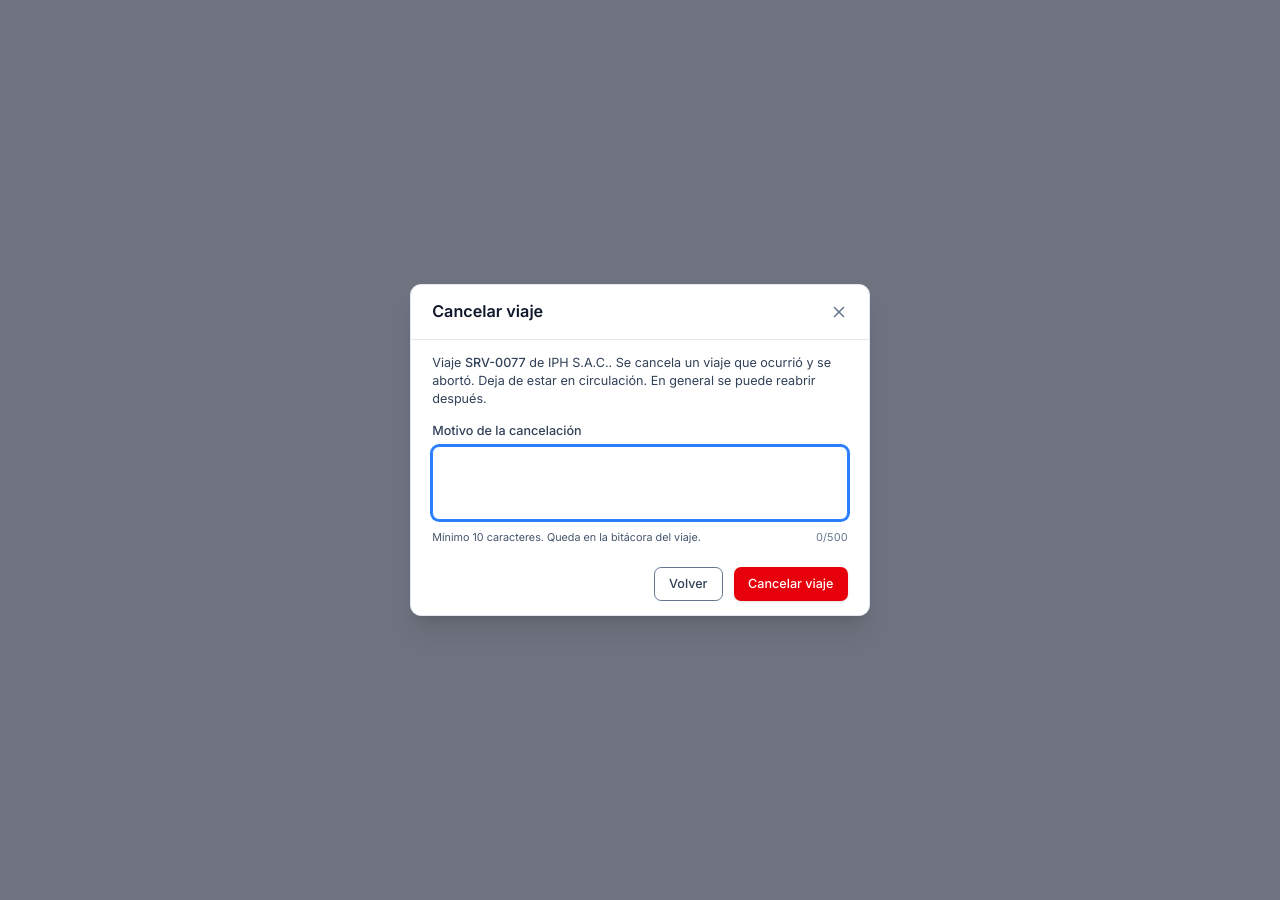
Test: ServiceExitModal, la validación › exige el motivo
This screenshot has width=1280, height=900.
Click the button "Cancelar viaje".
click(791, 584)  # box [734,567,848,601]
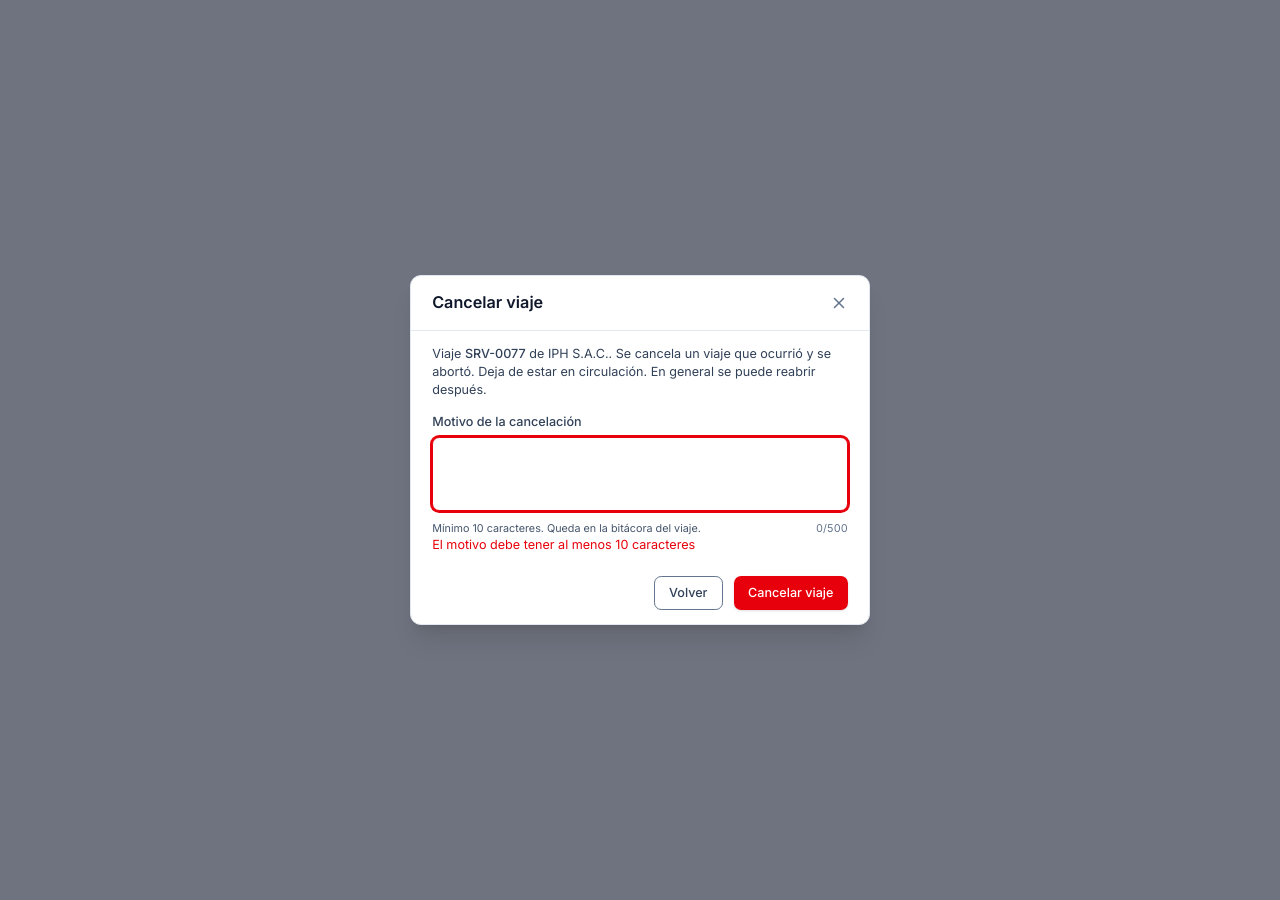
Result: the text "El motivo debe tener al menos 10 caracteres" is shown at [432,537,695,552]
